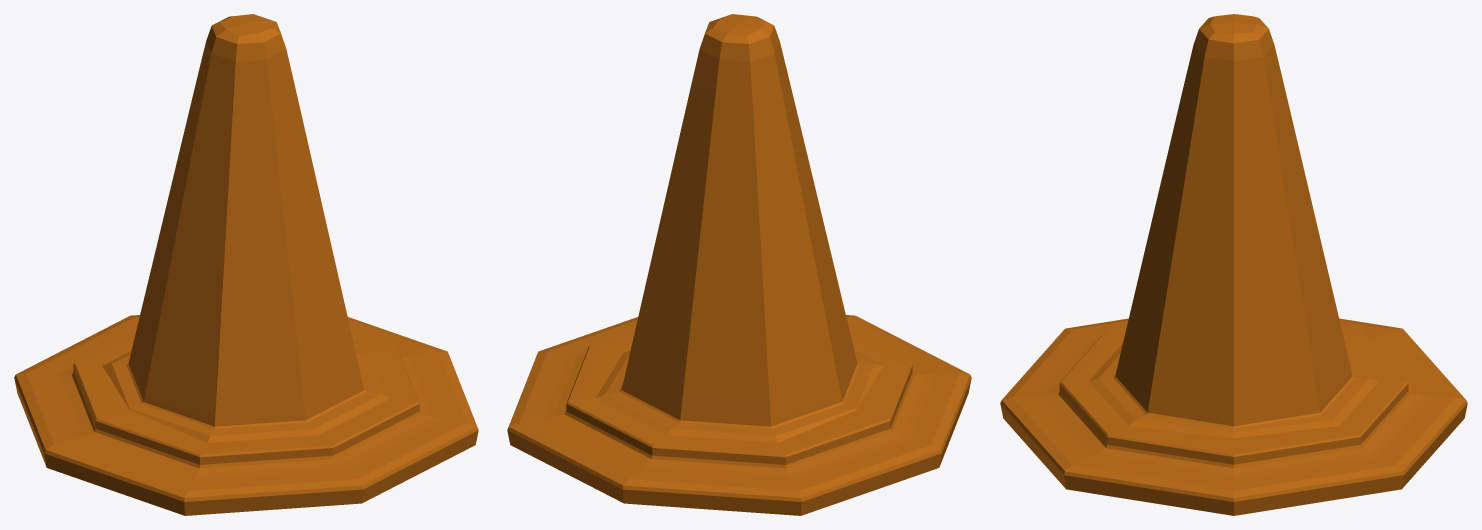
File: Cono.fbx
The picture shows the model from 3 angles, left to right: view 1: azimuth 30°, elevation 25°; view 2: azimuth 150°, elevation 25°; view 3: azimuth 270°, elevation 25°; orthographic projection.
Parts seen in each view (by area): view 1: Cube.018; view 2: Cube.018; view 3: Cube.018.
Boxes of the visible parts, x1,y1,x2,y2 form: Cube.018: (14, 14, 478, 515); Cube.018: (507, 14, 971, 515); Cube.018: (1000, 14, 1467, 515).
Bounding box in the file's own units: 26.02 × 24.52 × 26.02.
